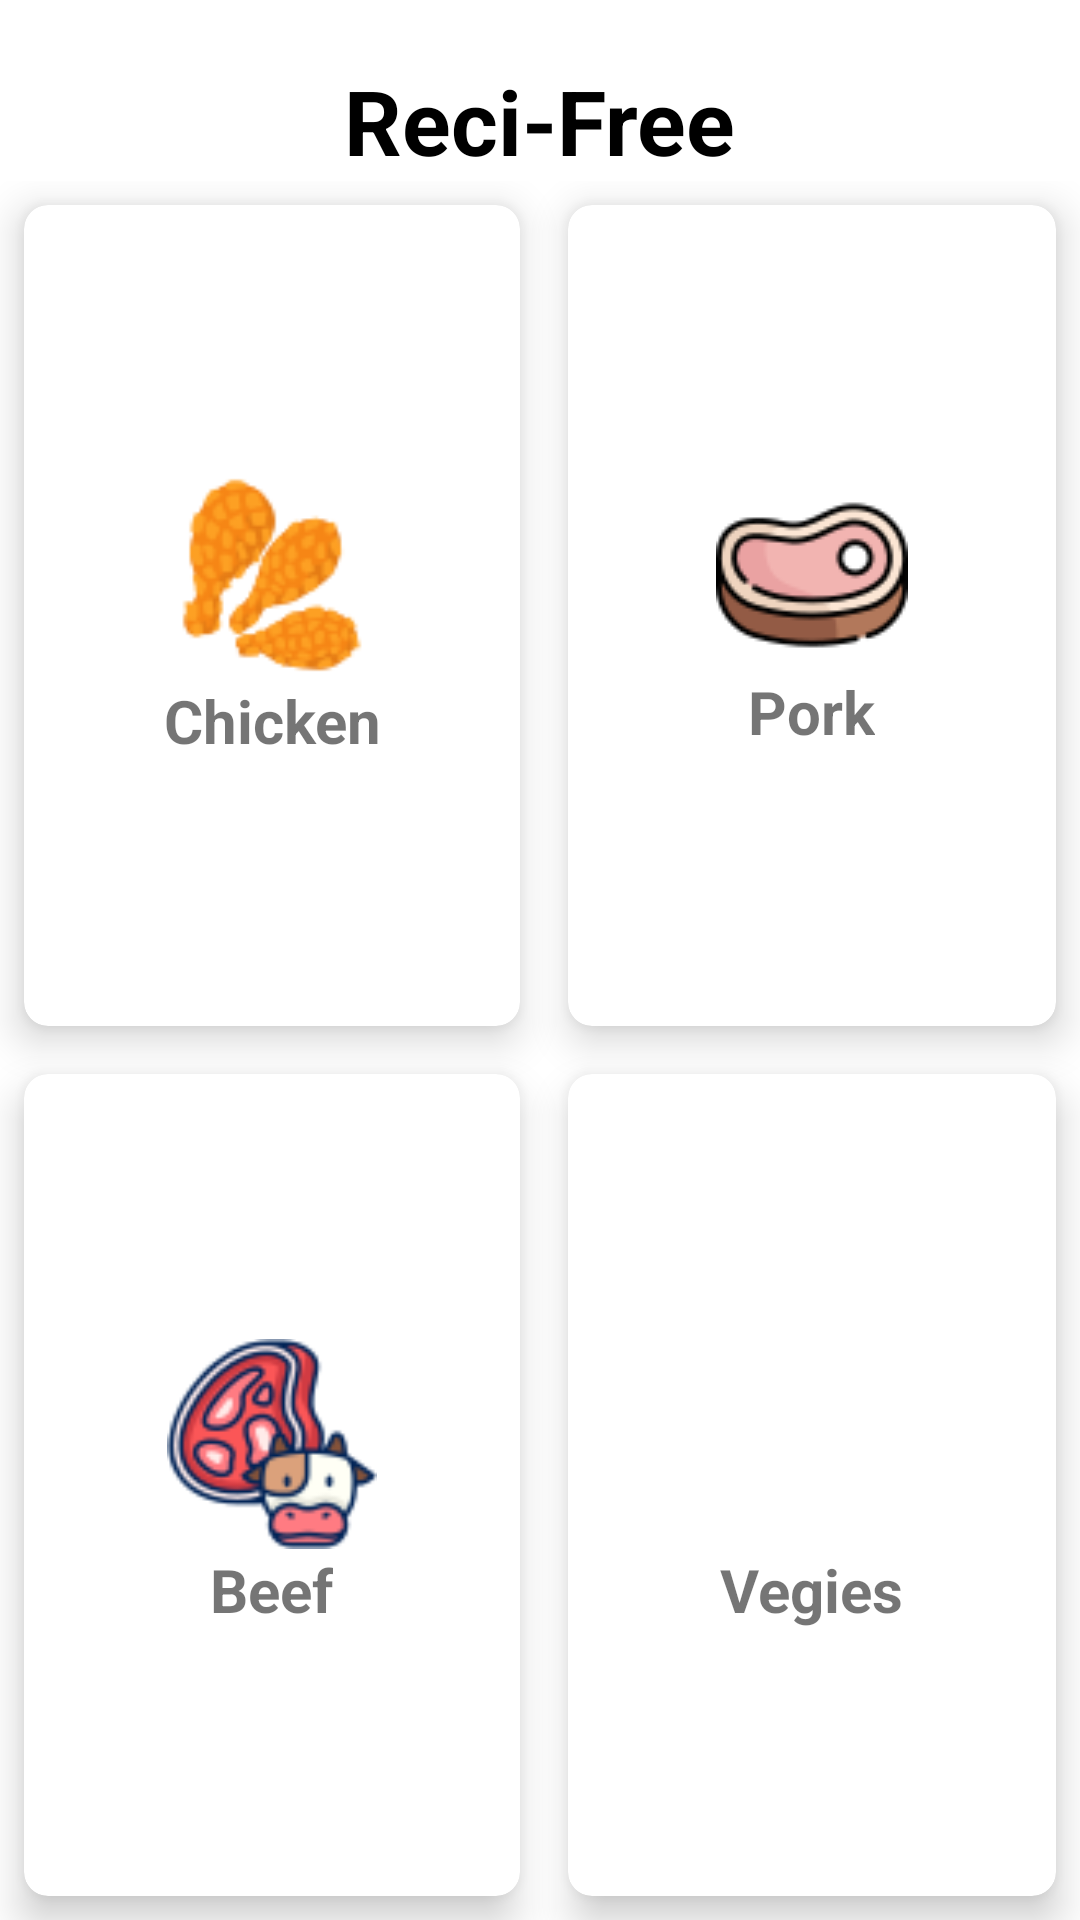

Where icons sit on this 1080x1920 app screen, as (x1, y1, x2, y2):
chop: (716, 502, 908, 648)
food: (182, 479, 362, 671)
